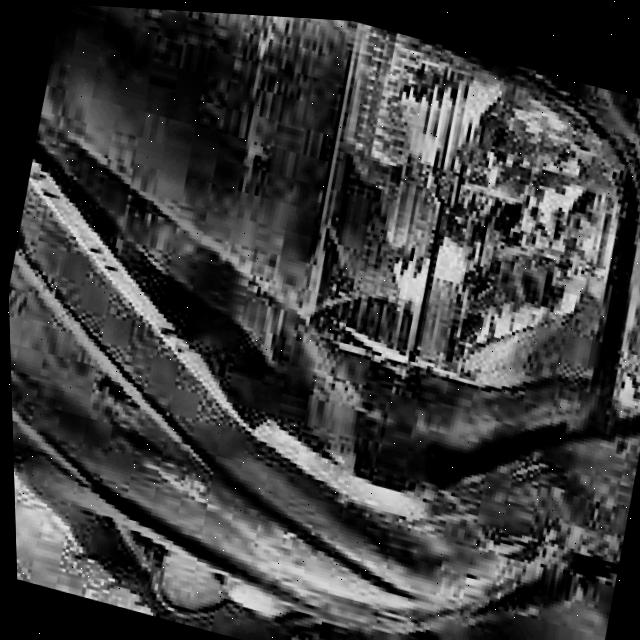tail_lamp: (299, 40, 633, 398)
